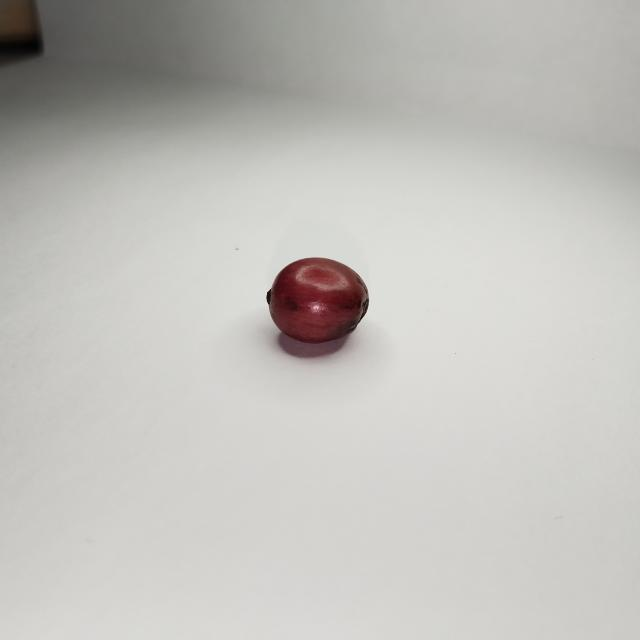Sano: (267, 258, 368, 344)
